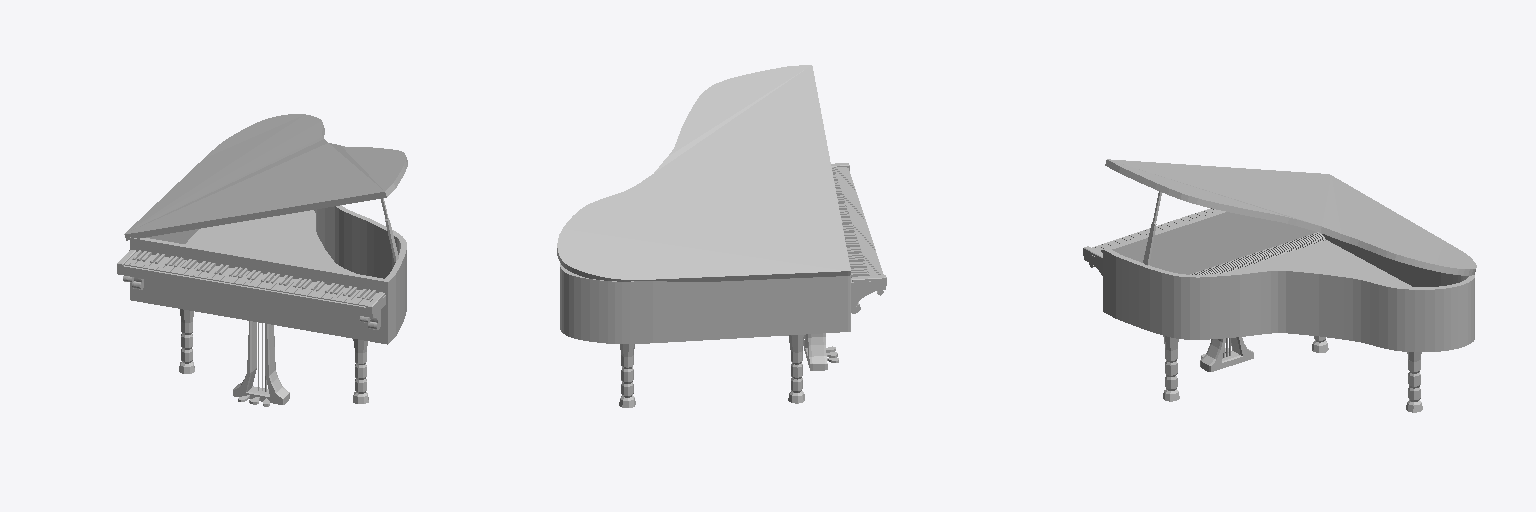
The model's file is piano.obj.
The picture shows the model from 3 angles: view 1: azimuth 30°, elevation 25°; view 2: azimuth 150°, elevation 25°; view 3: azimuth 270°, elevation 25°; orthographic projection.
Parts seen in each view (by area): view 1: piano02; view 2: piano02; view 3: piano02.
Boxes of the visible parts, <box> form: piano02: <box>117,114,407,406</box>; piano02: <box>557,65,886,407</box>; piano02: <box>1083,159,1476,412</box>.
Bounding box in the file's own units: 23.78 × 20.69 × 31.42.